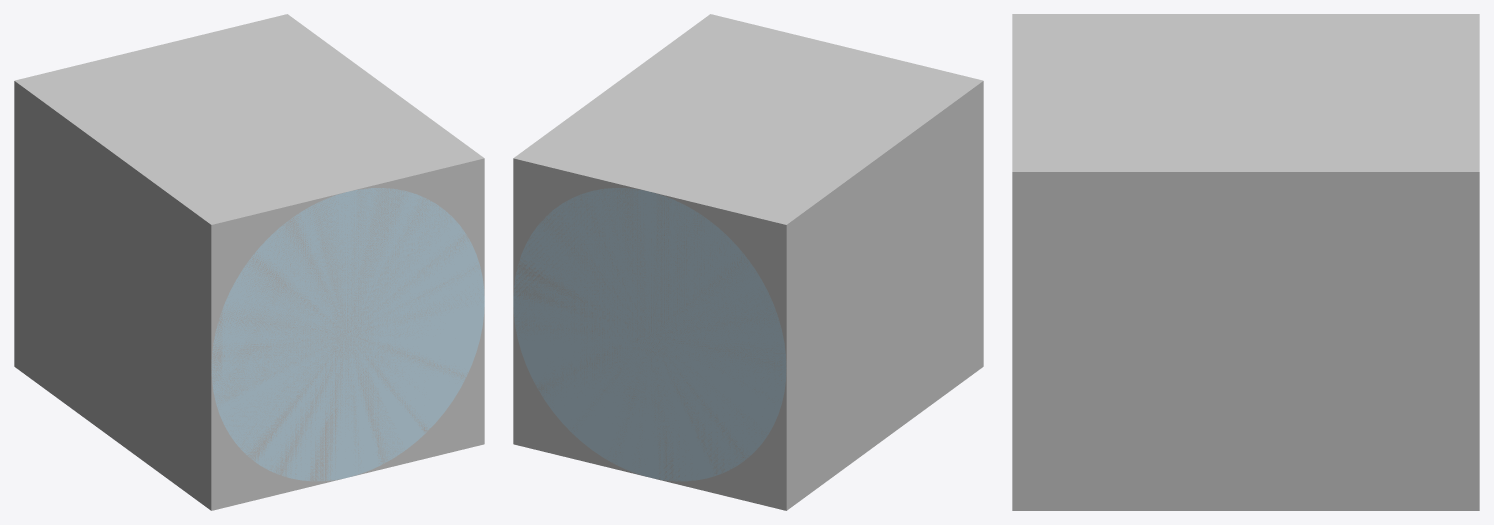
3 views of the same model, side by side, from view 1: azimuth 30°, elevation 25°; view 2: azimuth 150°, elevation 25°; view 3: azimuth 270°, elevation 25° (orthographic). The views are drawn at different scales.
Parts seen in each view (by area): view 1: Part 2, Part 1; view 2: Part 2, Part 1; view 3: Part 2.
Boxes of the visible parts, x1,y1,x2,y2 form: Part 2: (14, 14, 484, 510); Part 1: (211, 188, 484, 481); Part 2: (513, 14, 983, 510); Part 1: (513, 188, 786, 481); Part 2: (1012, 14, 1479, 510).
Size of the model in its own units: 0.04 by 0.04 by 0.05.
